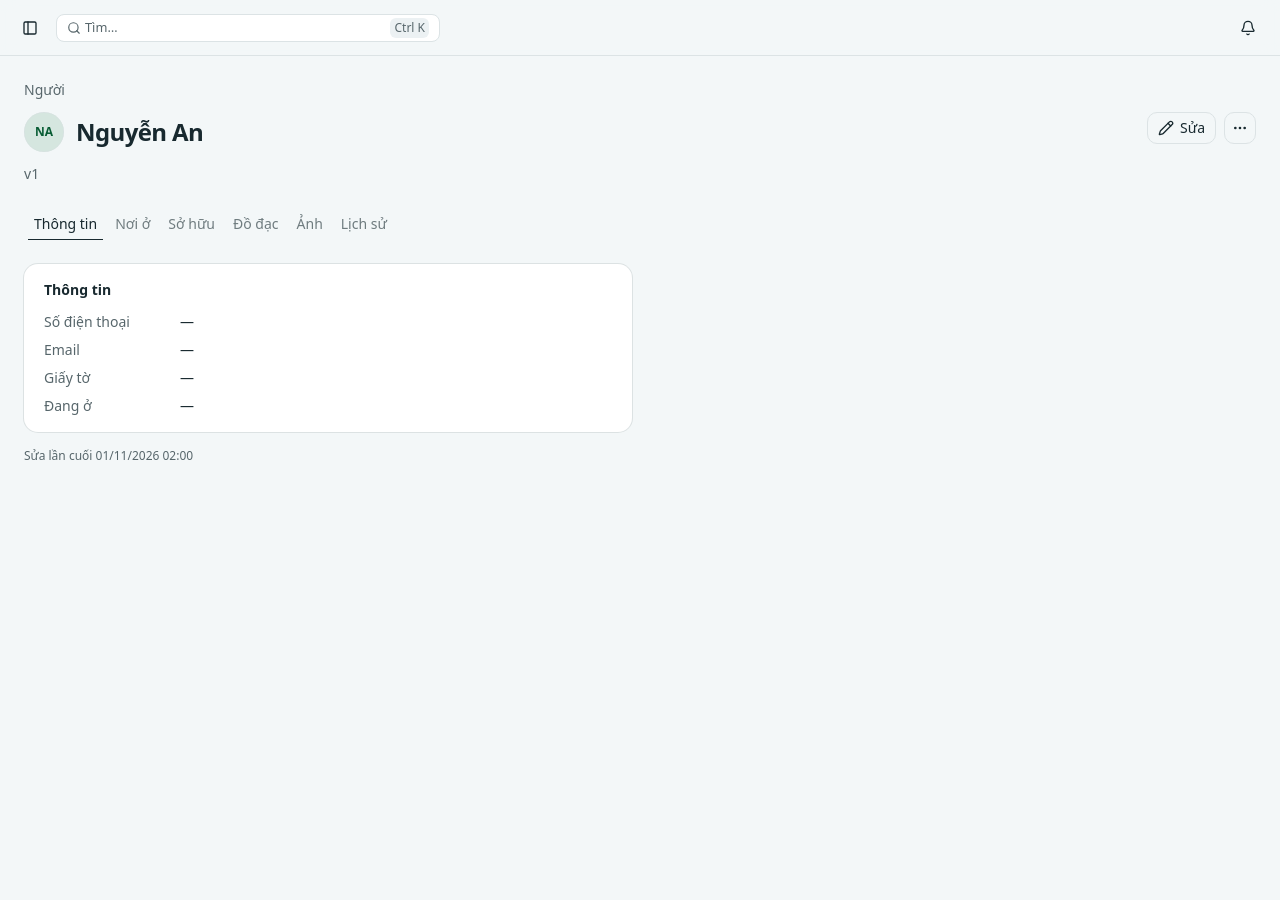
deletingAnOwnerShowsWhyItIsBlocked
Expected: the heading "Nguyễn An" is shown, [76, 116, 203, 148]
Click the button named "Thao tác khác".
click(1240, 128)  # box [1224, 112, 1256, 144]
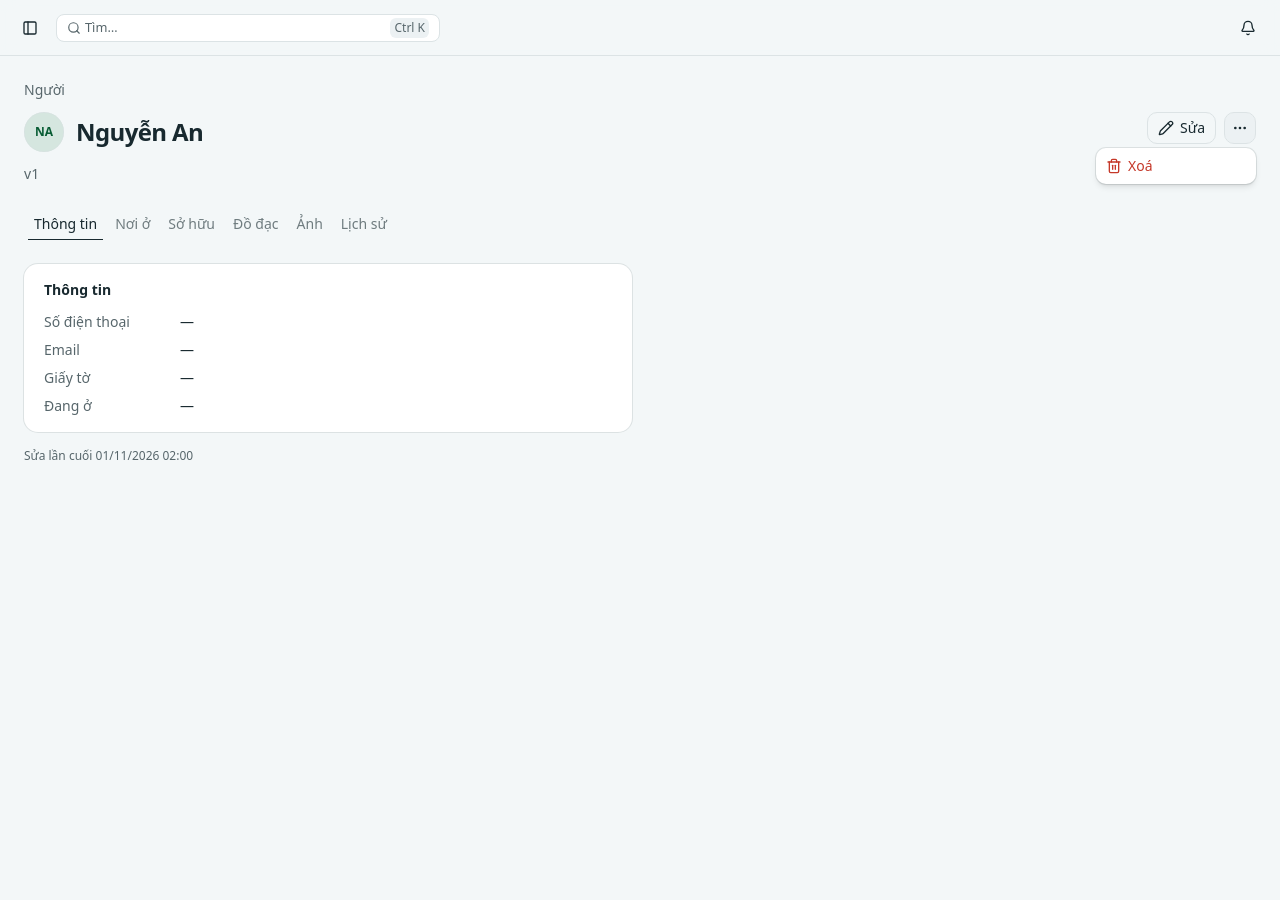
Click the menu item "Xoá".
click(1129, 166)  # box [1106, 156, 1152, 175]
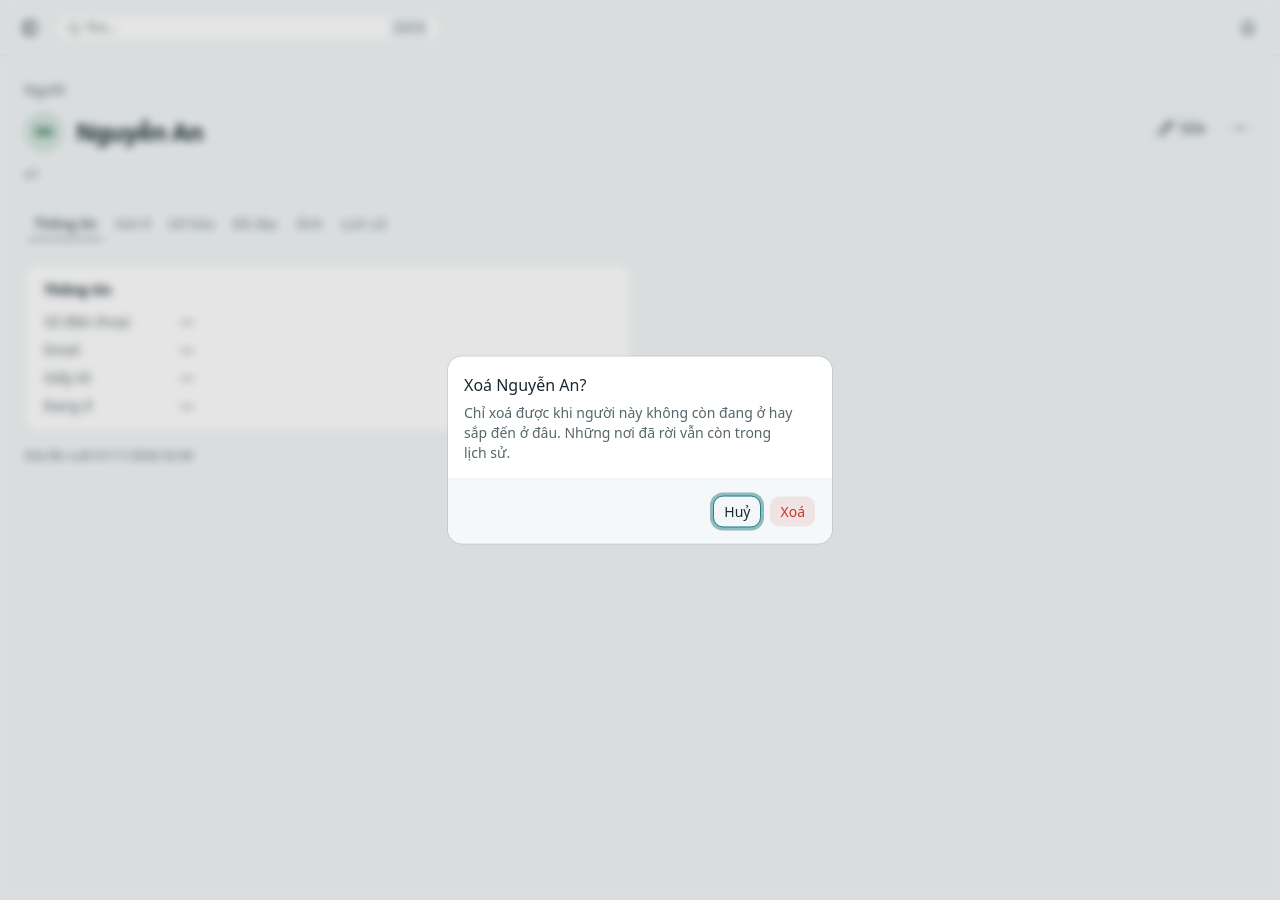
Click the button "Xoá".
click(793, 512)  # box [770, 496, 816, 528]
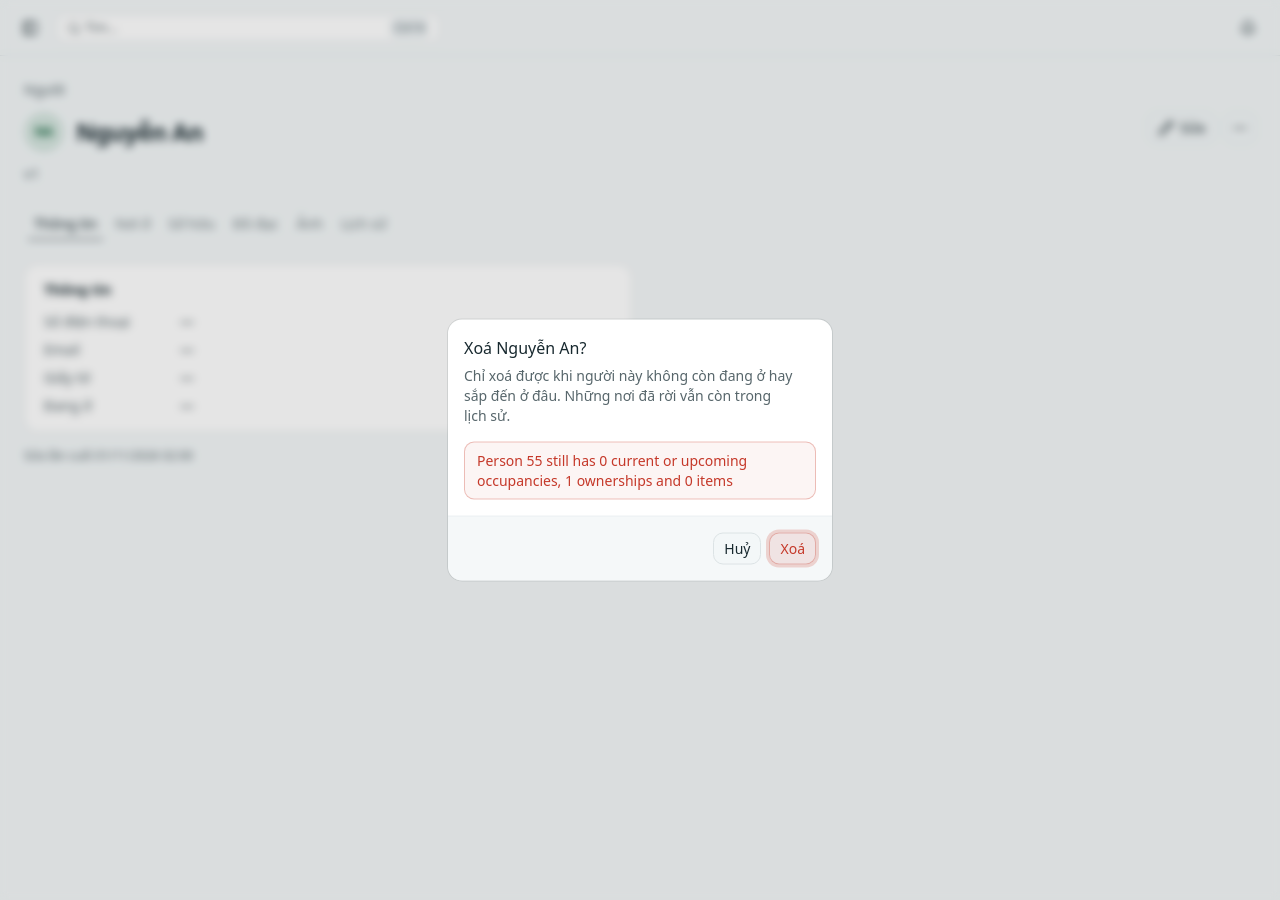
Expected: the text "Person 55 still has 0 current or upcoming occupancies, 1 ownerships and 0 items" is shown, [477, 450, 747, 490]
